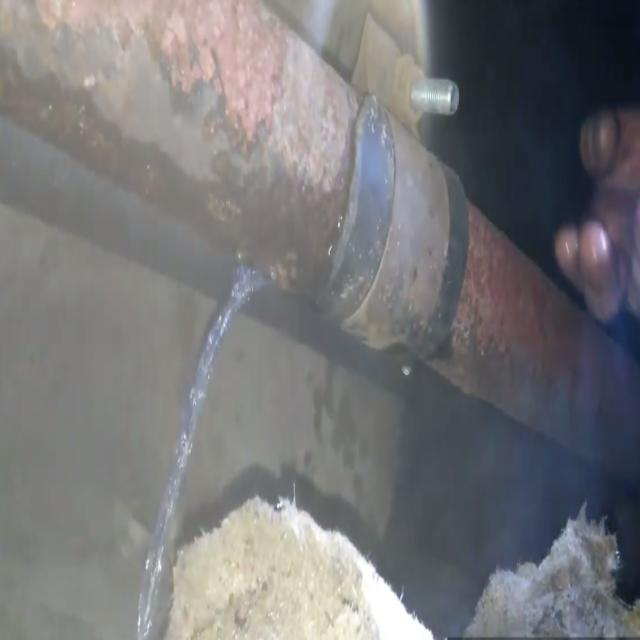leak: (138, 264, 268, 637)
